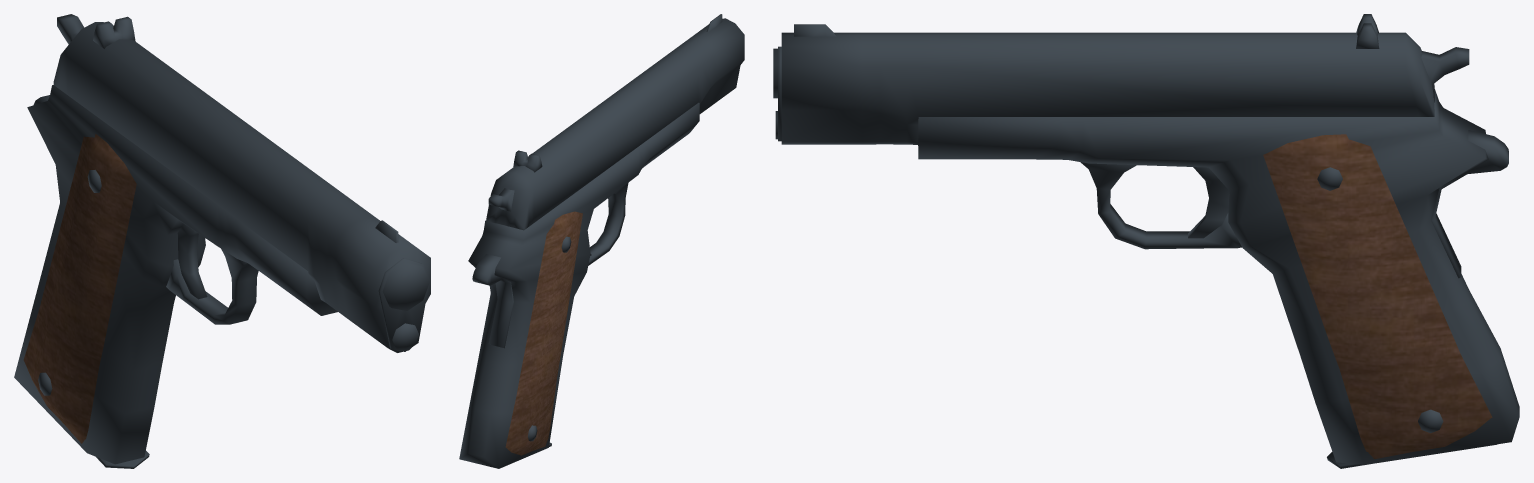
File: tabasco-m1911.glb
3 views of the same model, side by side, from view 1: azimuth 30°, elevation 25°; view 2: azimuth 150°, elevation 25°; view 3: azimuth 270°, elevation 25° (orthographic). The views are drawn at different scales.
Visible parts, largest first — view 1: Cube; view 2: Cube; view 3: Cube.
Boxes of the visible parts, x1,y1,x2,y2 form: Cube: (14,14,430,468); Cube: (459,14,744,468); Cube: (773,14,1519,468).
Bounding box in the file's own units: 1.22 × 5.99 × 9.23.
3 materials, 1 textured.
